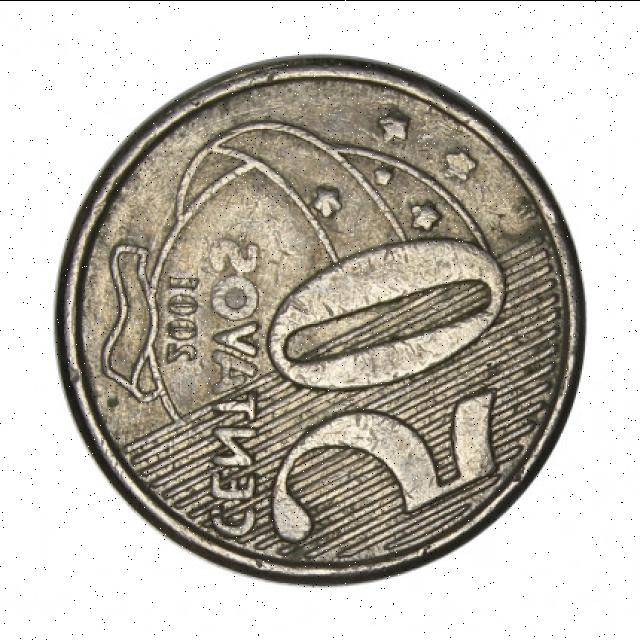50 cent: (55, 52, 587, 586)
